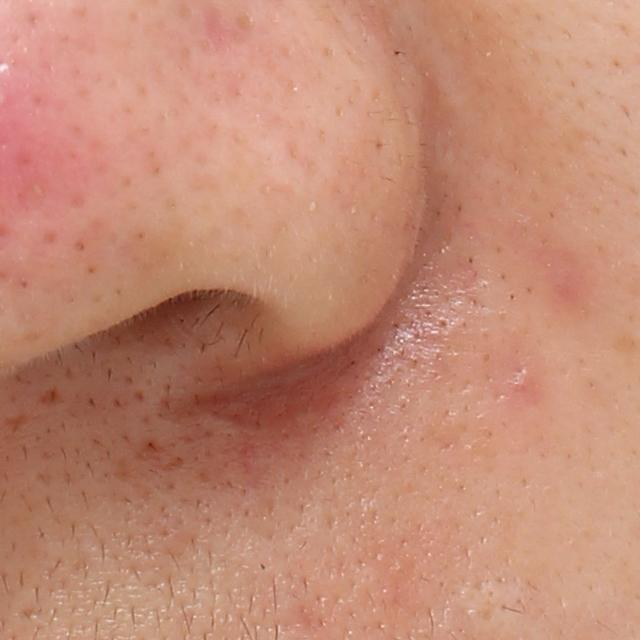atrophic_scar: (34, 383, 65, 409), (3, 413, 32, 430)
hypertrophic_scar: (187, 409, 246, 436)
